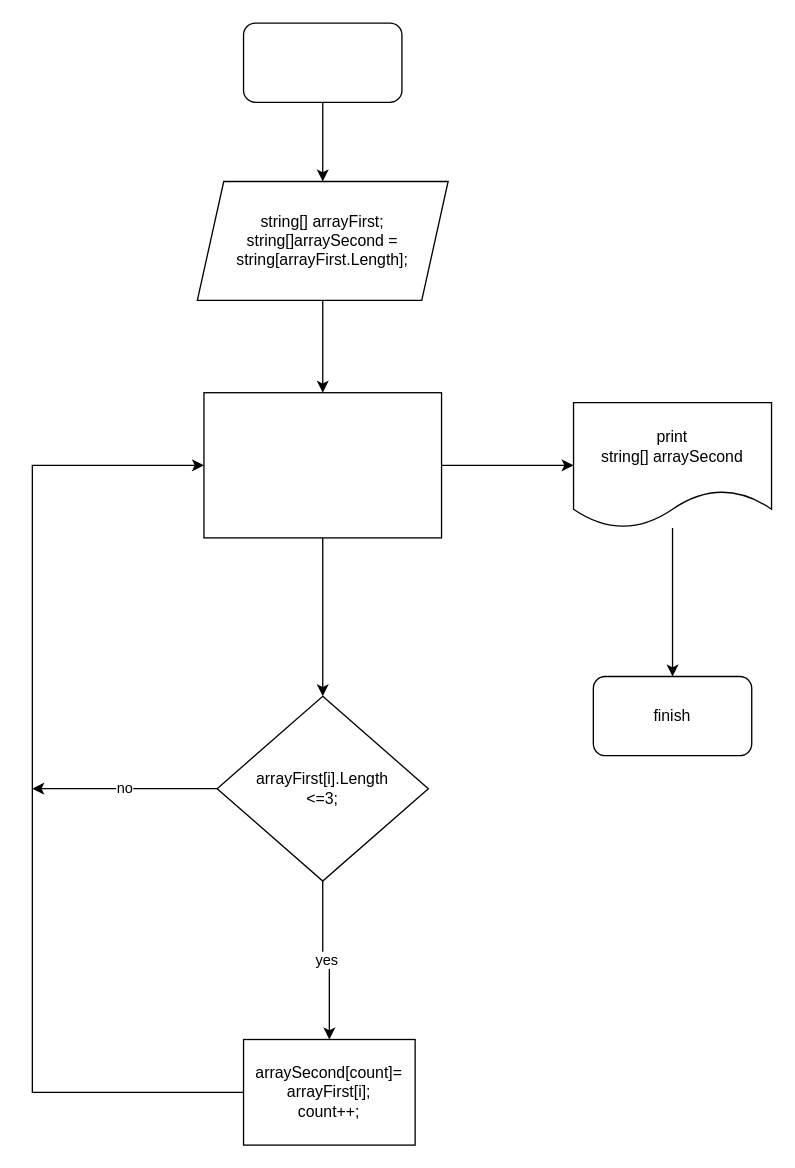
Image size: 795x1168. Some labels were removed from this diagram. The centre of each missing label's shape, as x and y in pixels:
"int count = 0; int i = 0; i<arrayFirst.Lenght; i++;" goes at (322,464).
"start" goes at (322,62).
